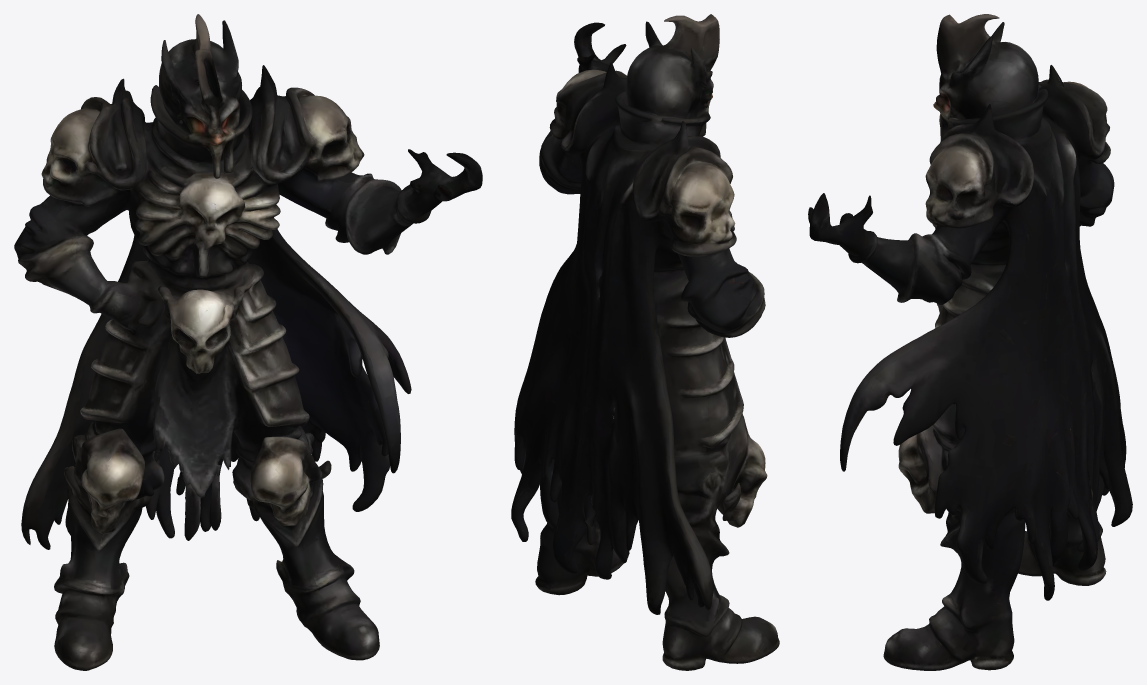
The model's file is monster.glb.
3 renders of one model, left to right at view 1: azimuth 30°, elevation 25°; view 2: azimuth 150°, elevation 25°; view 3: azimuth 270°, elevation 25°, orthographic. The views are drawn at different scales.
Parts seen in each view (by area): view 1: world; view 2: world; view 3: world.
Part boxes in pixels (x1=…): world: x1=14, y1=14, x2=482, y2=670; world: x1=511, y1=14, x2=779, y2=670; world: x1=808, y1=14, x2=1132, y2=670.
Bounding box in the file's own units: 0.544 × 1 × 0.4966.
1 material, 1 textured.
